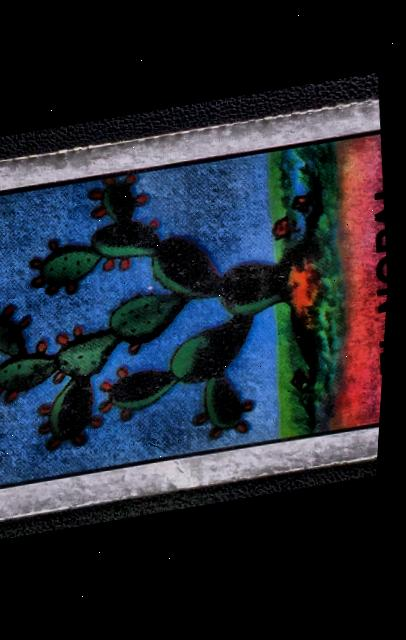El Nopal: (0, 113, 400, 501)
